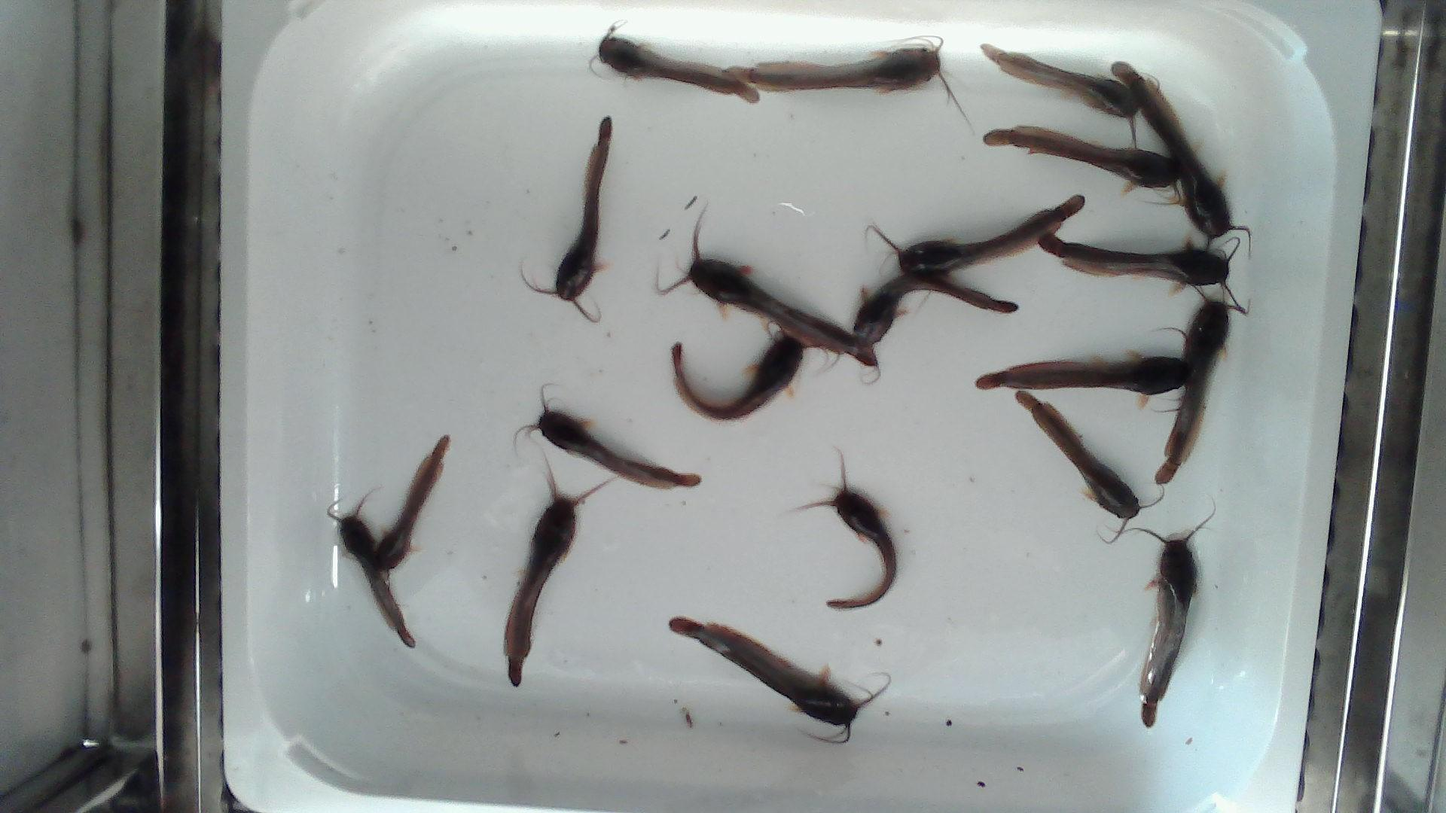lele: (654, 203, 881, 367), (669, 617, 888, 742), (1112, 62, 1252, 251), (723, 30, 974, 125), (505, 471, 604, 686), (1034, 229, 1250, 319), (517, 385, 701, 489), (861, 193, 1086, 278), (1015, 391, 1161, 521), (1115, 520, 1206, 727), (526, 116, 612, 322), (980, 123, 1184, 206), (975, 320, 1189, 399), (985, 45, 1139, 152), (1155, 300, 1243, 486), (584, 19, 763, 103), (327, 485, 416, 649), (804, 458, 896, 609), (368, 433, 452, 583), (851, 272, 1019, 347), (673, 331, 804, 419)
